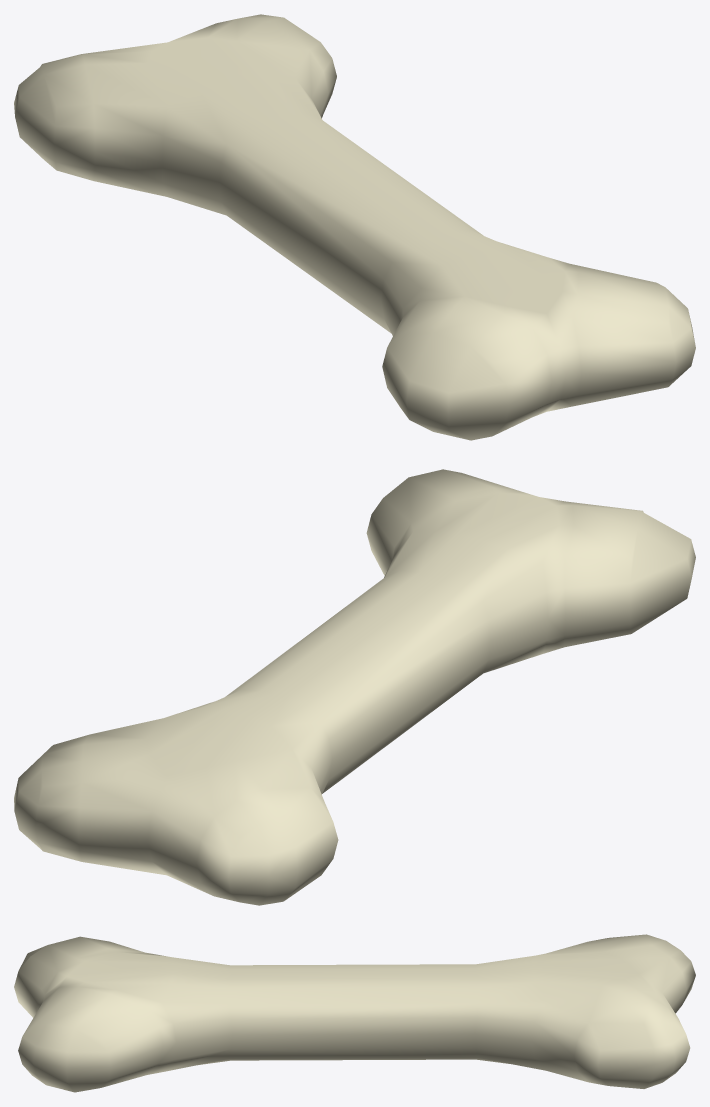
Rendered from bone_low.fbx.
3 views of the same model, one above another, from view 1: azimuth 30°, elevation 25°; view 2: azimuth 150°, elevation 25°; view 3: azimuth 270°, elevation 25° (orthographic). The views are drawn at different scales.
Parts seen in each view (by area): view 1: bone_lod0; view 2: bone_lod0; view 3: bone_lod0.
Boxes of the visible parts, x1,y1,x2,y2 form: bone_lod0: (14, 14, 695, 440); bone_lod0: (14, 469, 695, 905); bone_lod0: (14, 934, 695, 1092).
Bounding box in the file's own units: 54.75 × 21.16 × 144.
